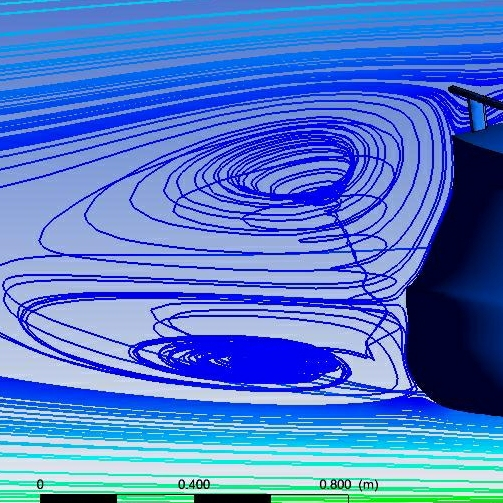vortox: (192, 118, 404, 250), (110, 304, 396, 396)
